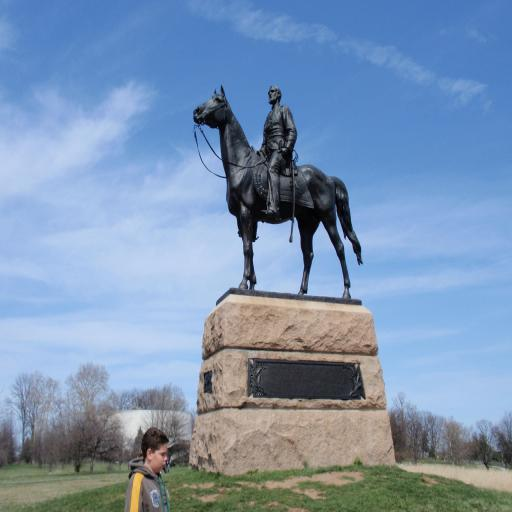horse: (192, 83, 364, 302)
